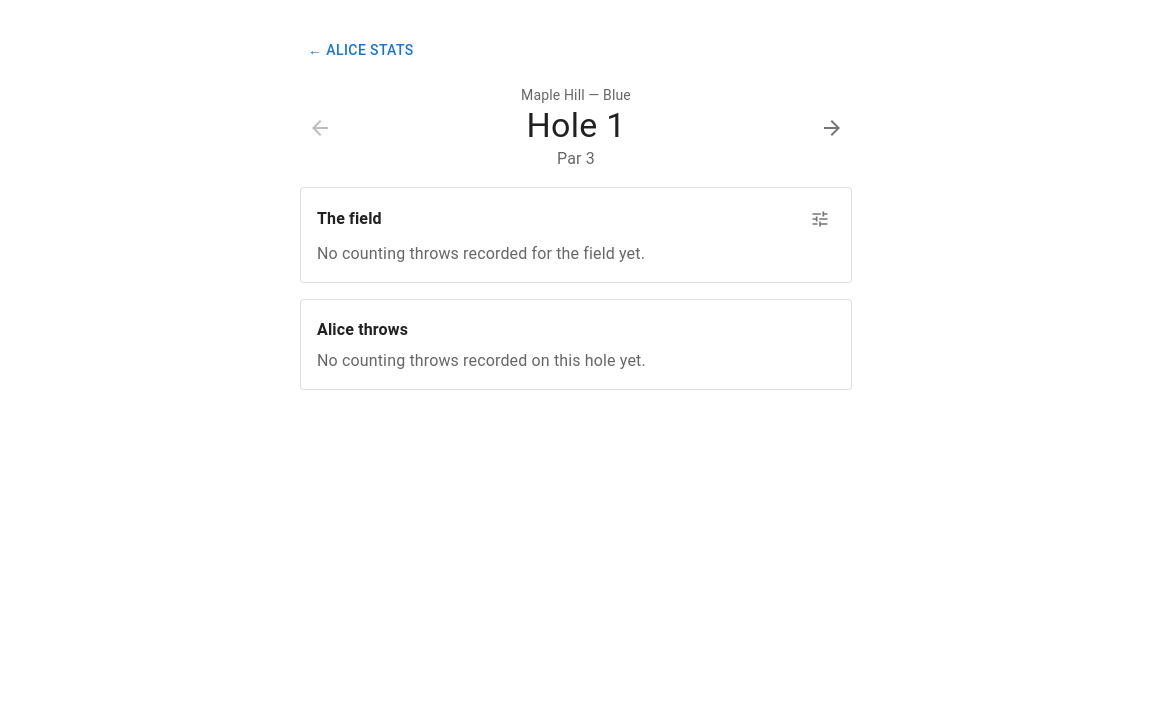
HoleBreakdownPage › lets you configure the field and refetches with the selected players
This screenshot has width=1152, height=720.
expect the heading "Hole 1" is shown: met, box [521,104,631,146]
Step 1. Click the button named "configure the field" → (820, 218), box [805,204,835,234]
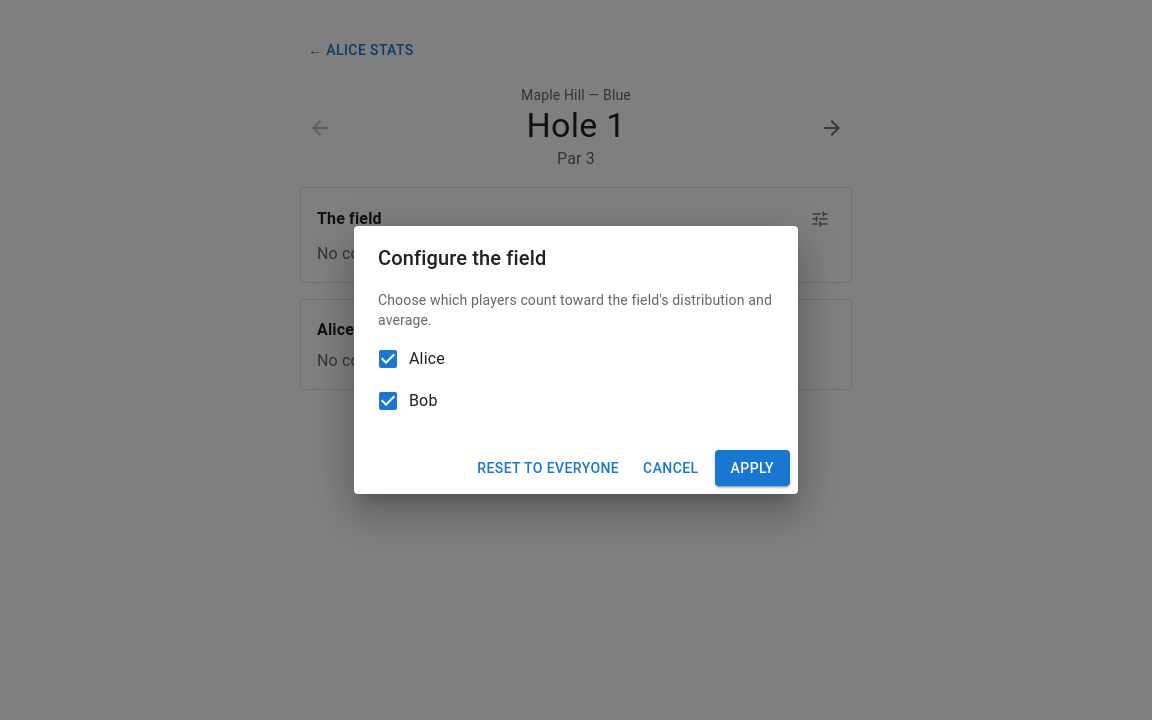
expect the heading "Configure the field" is shown: met, box [378,246,546,270]
Step 2. Click the checkbox labelled "Bob" → (407, 401), box [376,389,438,413]
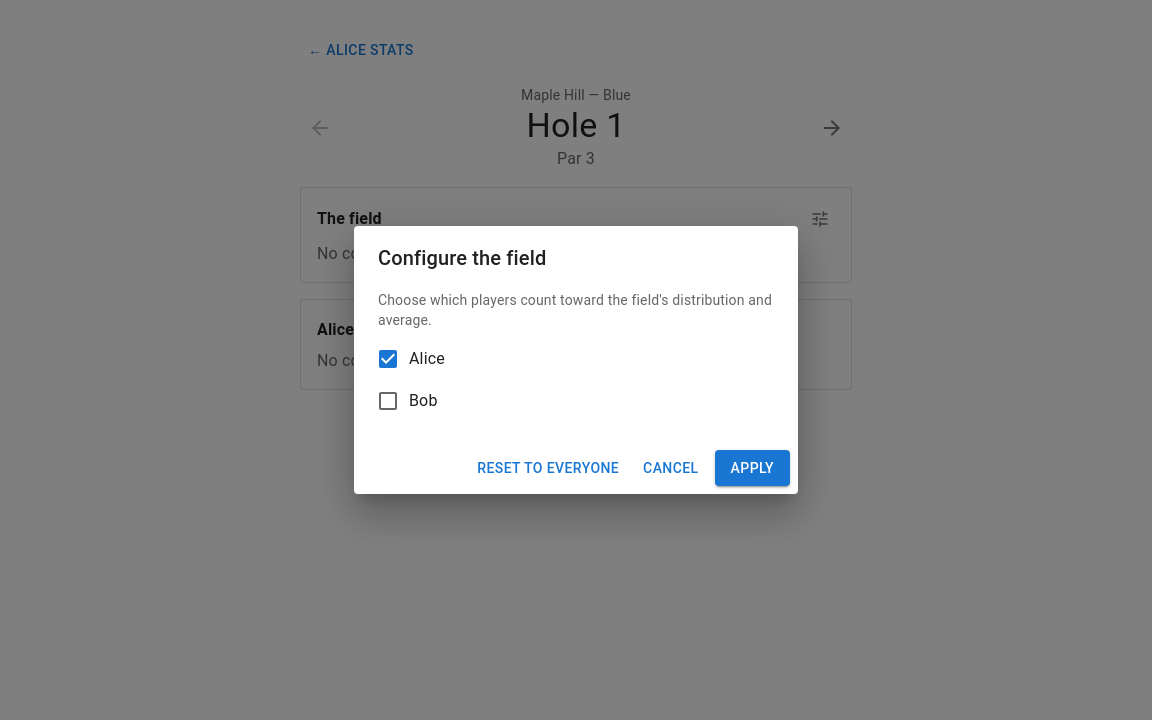
Step 3. Click the button "Apply" → (752, 468), box [715,450,790,486]
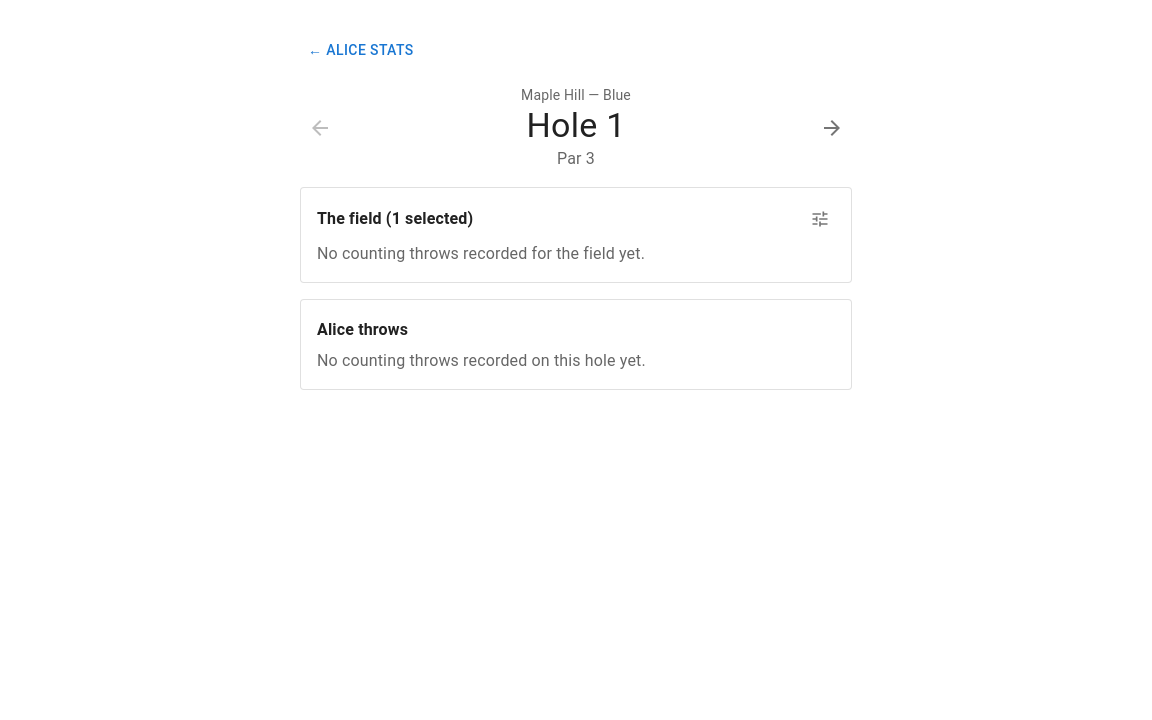
expect the heading "The field (1 selected)" is shown: met, box [317,204,473,232]
